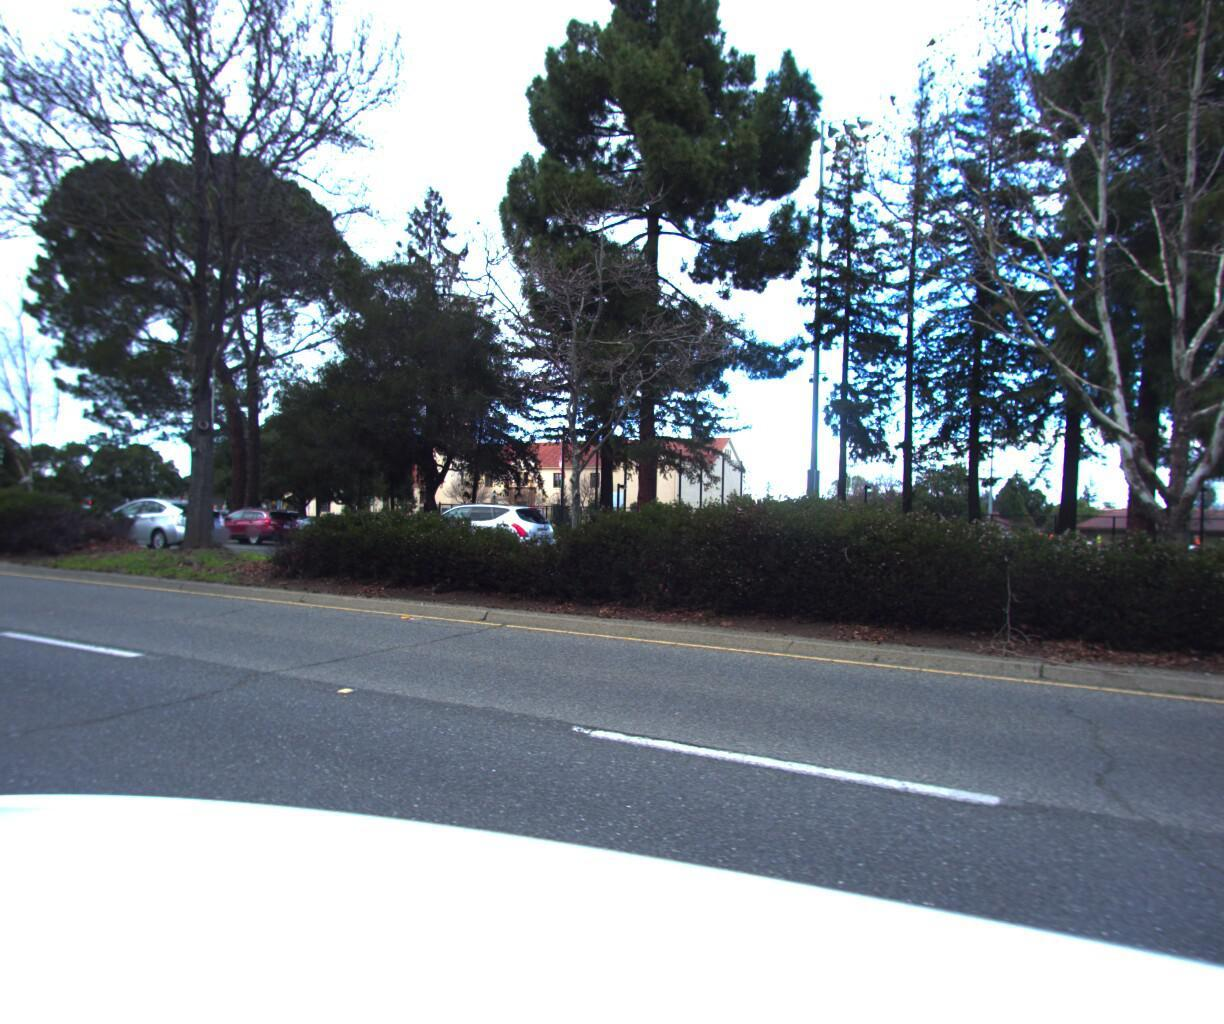car: (402, 496, 566, 560), (85, 490, 231, 551), (200, 500, 304, 543), (1219, 518, 1224, 602)
